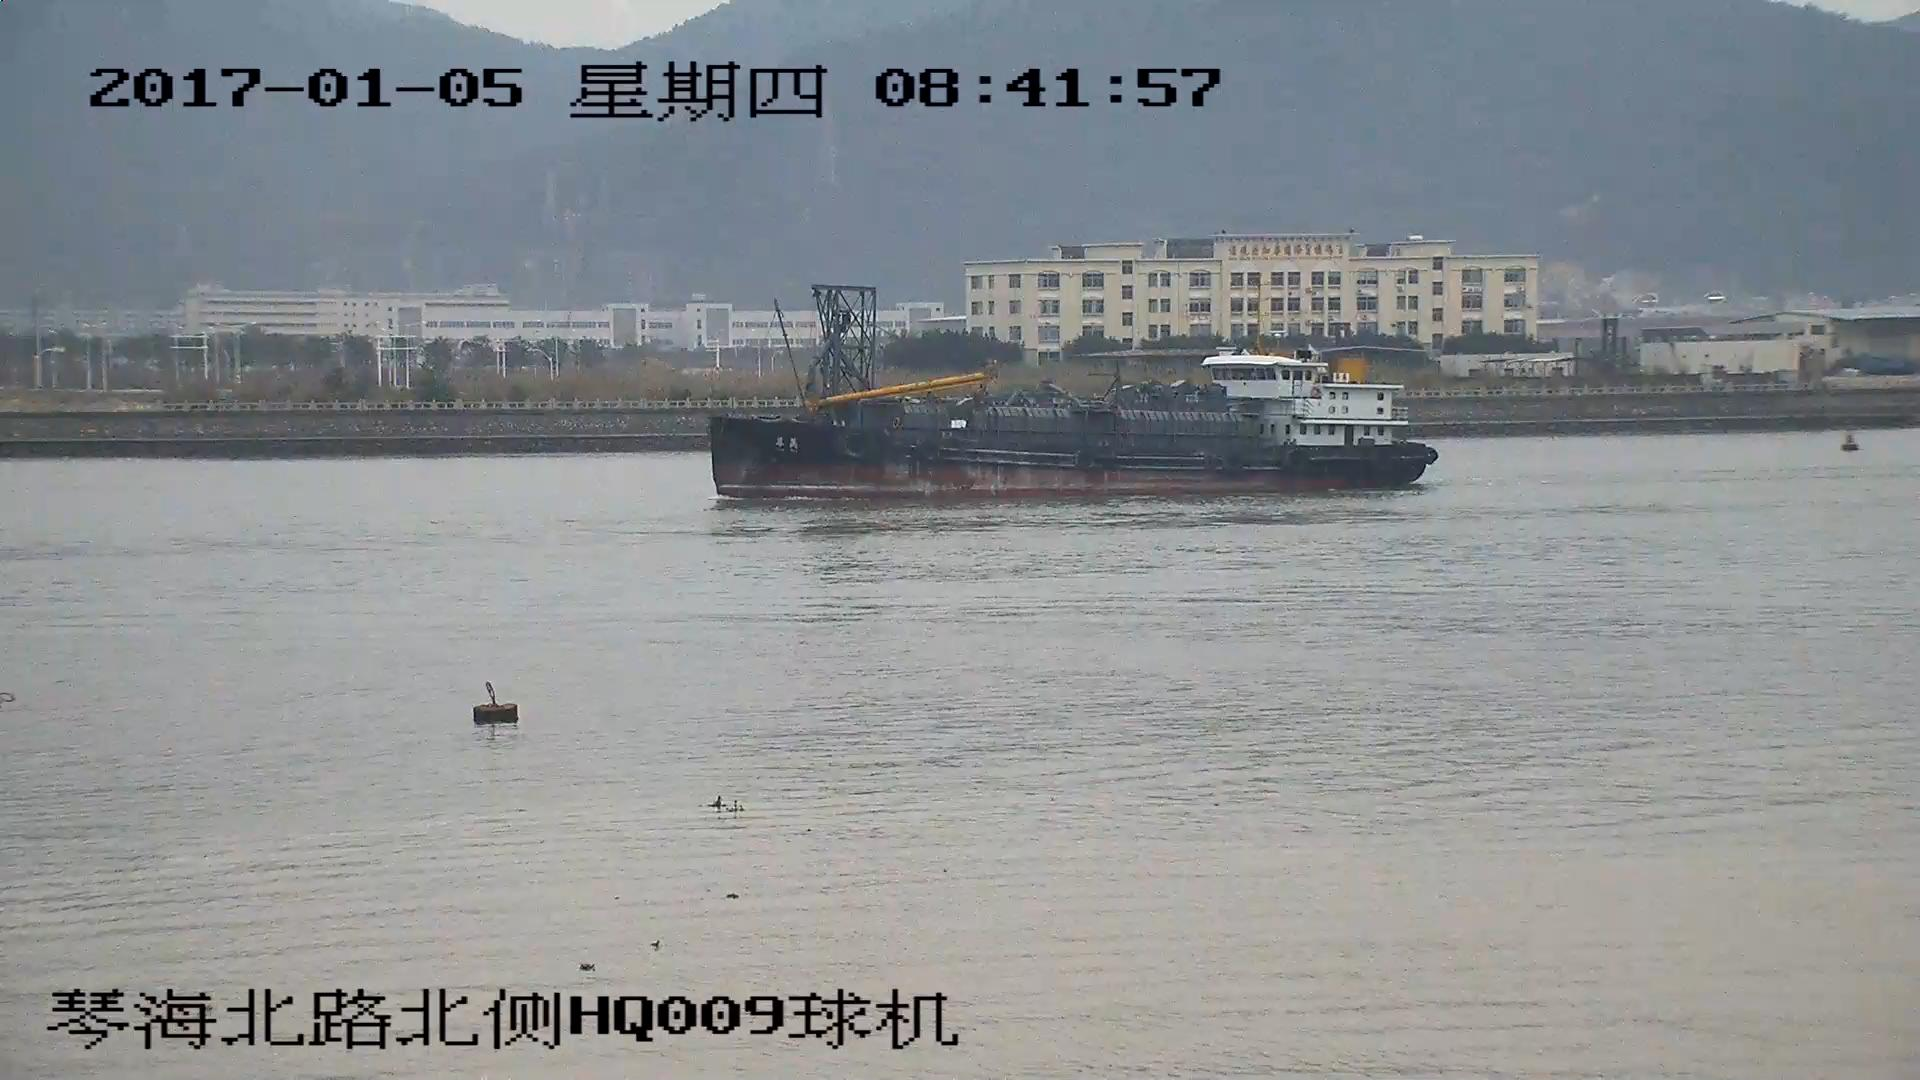bulk cargo carrier: (706, 292, 1438, 504)
